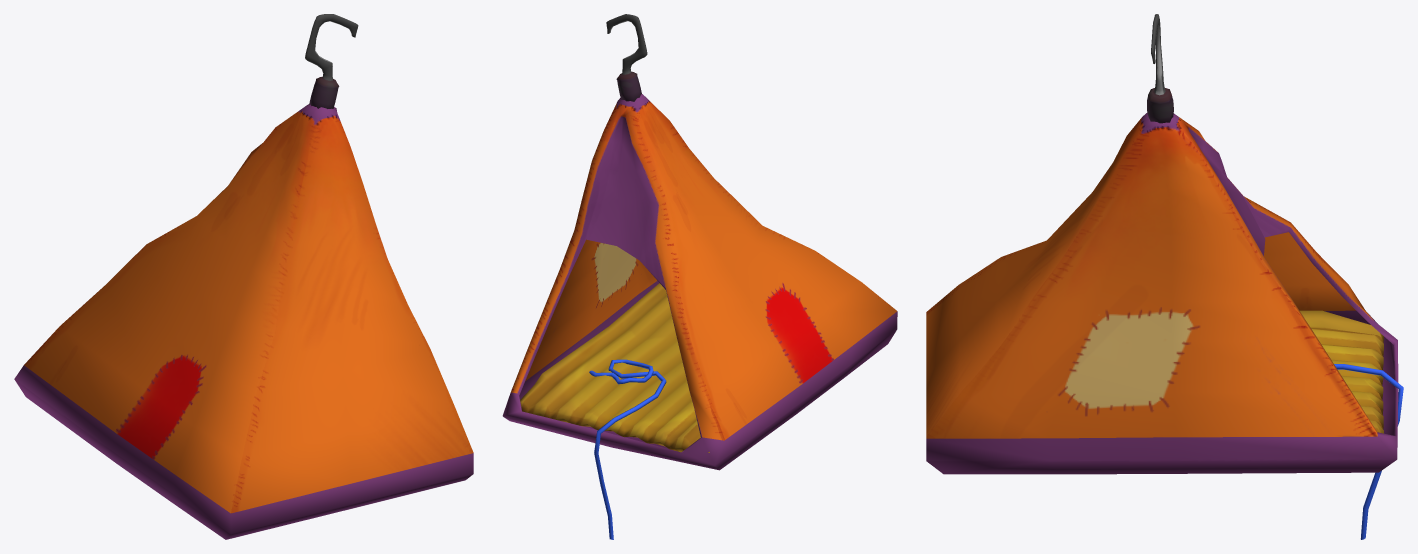
The model's file is tent.fbx.
3 renders of one model, left to right at view 1: azimuth 30°, elevation 25°; view 2: azimuth 150°, elevation 25°; view 3: azimuth 270°, elevation 25°, orthographic. The views are drawn at different scales.
Visible parts, largest first — view 1: Cube.002, Cube; view 2: Cube.002, Cube.001, BézierCurve, Cube; view 3: Cube.002, Cube.001, Cube, BézierCurve.
Boxes of the visible parts, x1,y1,x2,y2 form: Cube.002: [14, 104, 473, 539]; Cube: [305, 14, 358, 108]; Cube.002: [502, 94, 897, 470]; Cube.001: [520, 283, 709, 452]; BézierCurve: [589, 359, 666, 539]; Cube: [606, 14, 647, 101]; Cube.002: [926, 113, 1398, 474]; Cube.001: [1300, 310, 1383, 433]; Cube: [1147, 14, 1173, 123]; BézierCurve: [1334, 364, 1403, 539].
Size of the model in its own units: 406 by 818 by 631.
